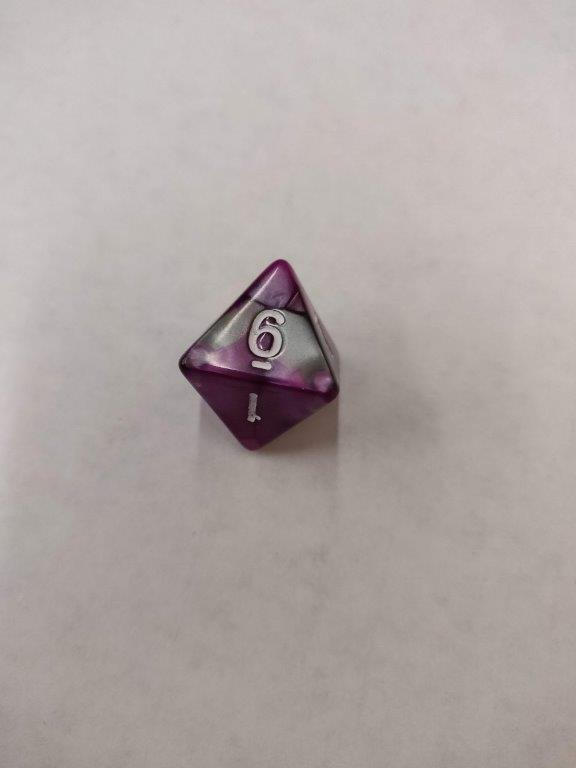d8-6: (175, 261, 340, 453)
